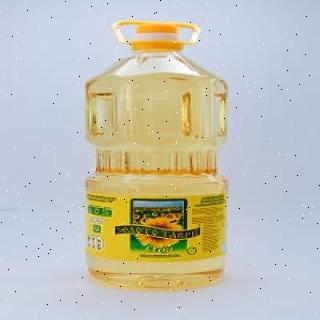Plastic-bottle: (81, 16, 234, 295)
